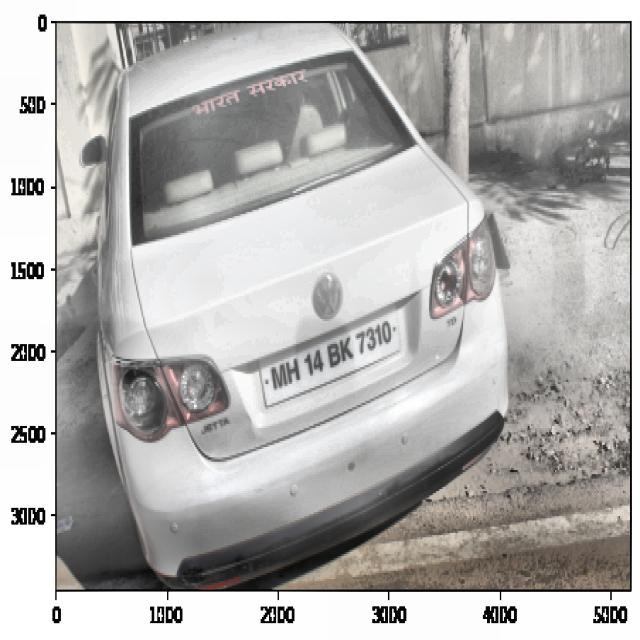license_plate: (269, 318, 394, 393)
